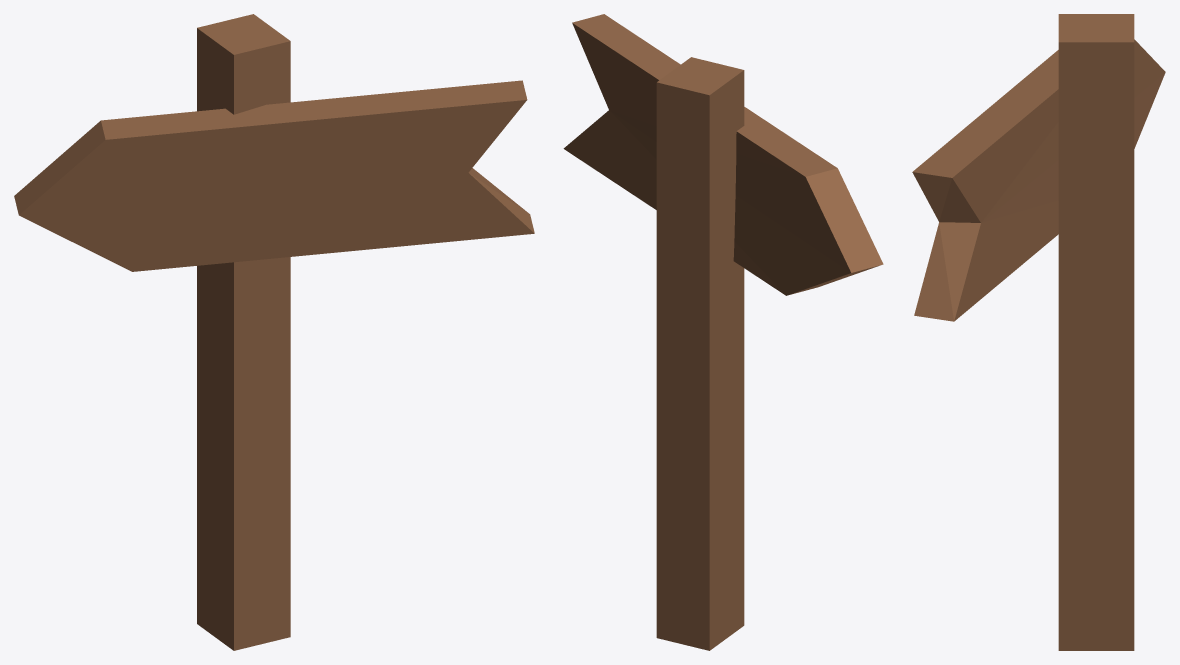
The model's file is direction_sign.fbx.
3 views of the same model, side by side, from view 1: azimuth 30°, elevation 25°; view 2: azimuth 150°, elevation 25°; view 3: azimuth 270°, elevation 25° (orthographic). The views are drawn at different scales.
Visible parts, largest first — view 1: direction_sign; view 2: direction_sign; view 3: direction_sign.
Boxes of the visible parts, left/top/right/bottom form: direction_sign: left=14, top=14, right=534, bottom=650; direction_sign: left=563, top=14, right=883, bottom=650; direction_sign: left=912, top=14, right=1165, bottom=650.
Size of the model in its own units: 150 by 200 by 75.67.
